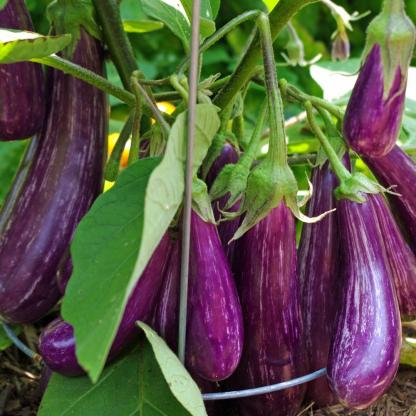--: (0, 0, 110, 327), (310, 105, 398, 408), (242, 127, 314, 416), (181, 172, 249, 387), (340, 3, 416, 160)
